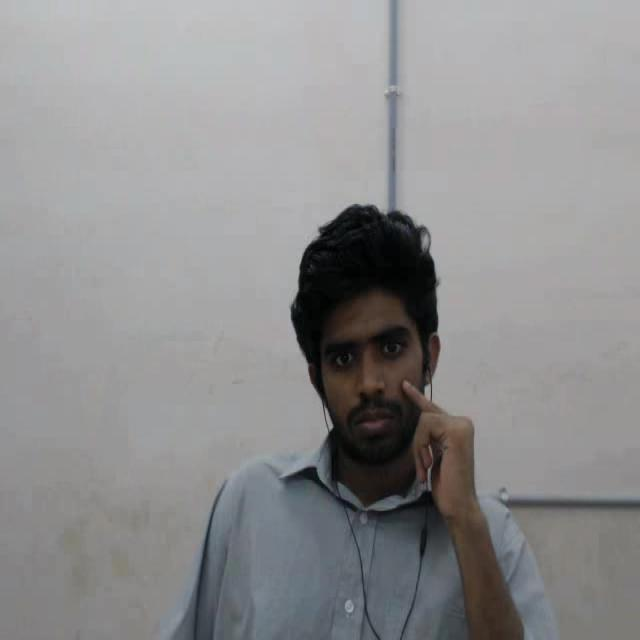Bored: (237, 162, 528, 501)
